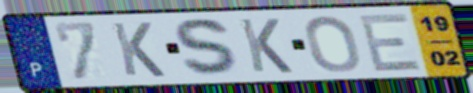7: (52, 20, 100, 83)
E: (356, 11, 425, 74)
K: (108, 21, 168, 79), (236, 17, 295, 75)
O: (302, 14, 363, 74)
S: (172, 16, 246, 79)
